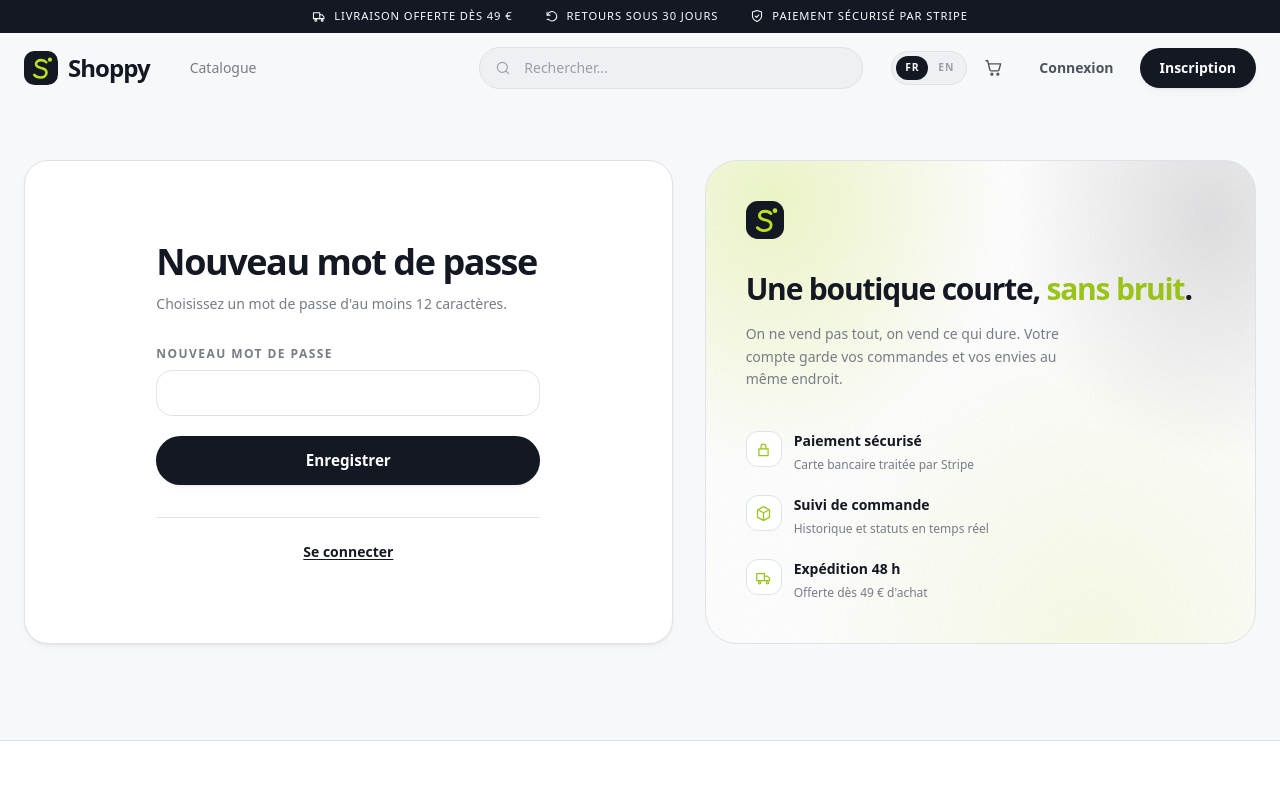
Scenario: account security pages › resets the password from the emailed token
This screenshot has width=1280, height=797.
In the password field labelled "Nouveau mot de passe": (348, 393) [156,370,540,416], type "brand-new-secret"
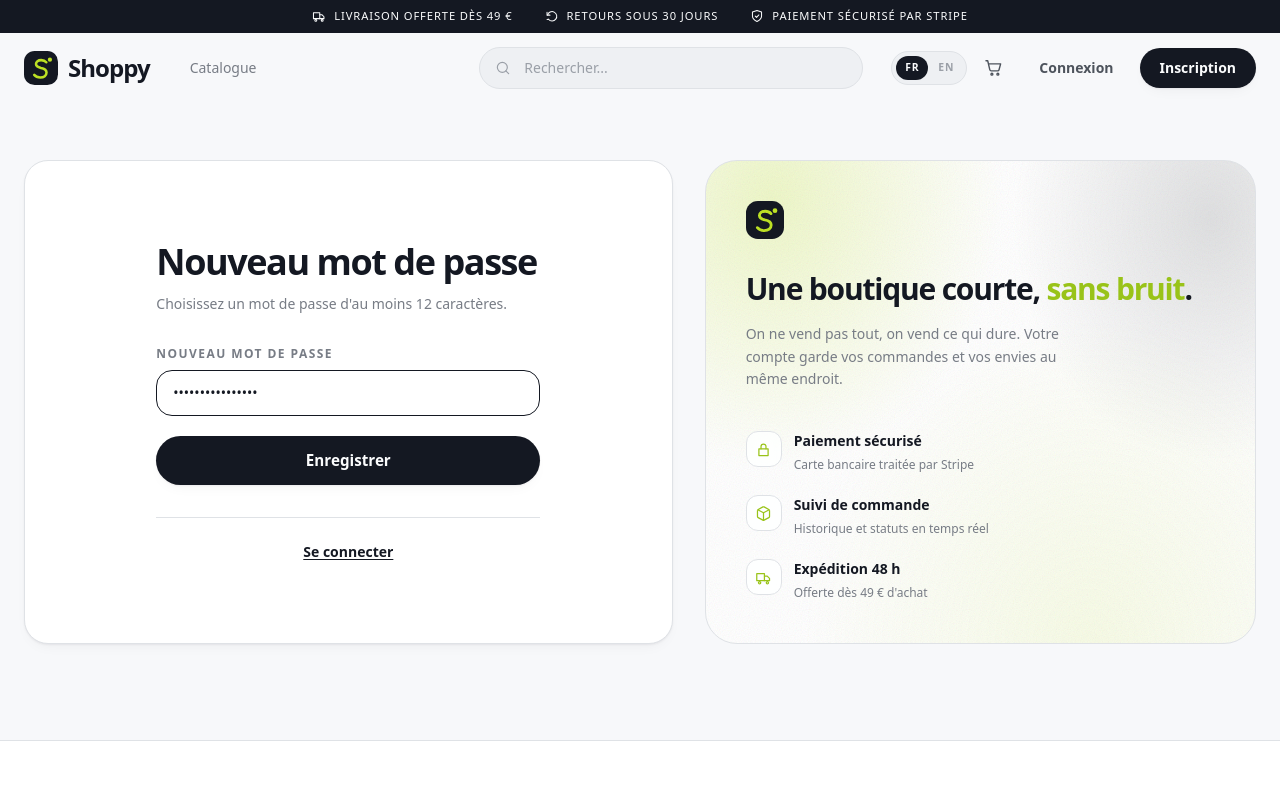
Click the button "Enregistrer": (348, 460) [156,436,540,485]
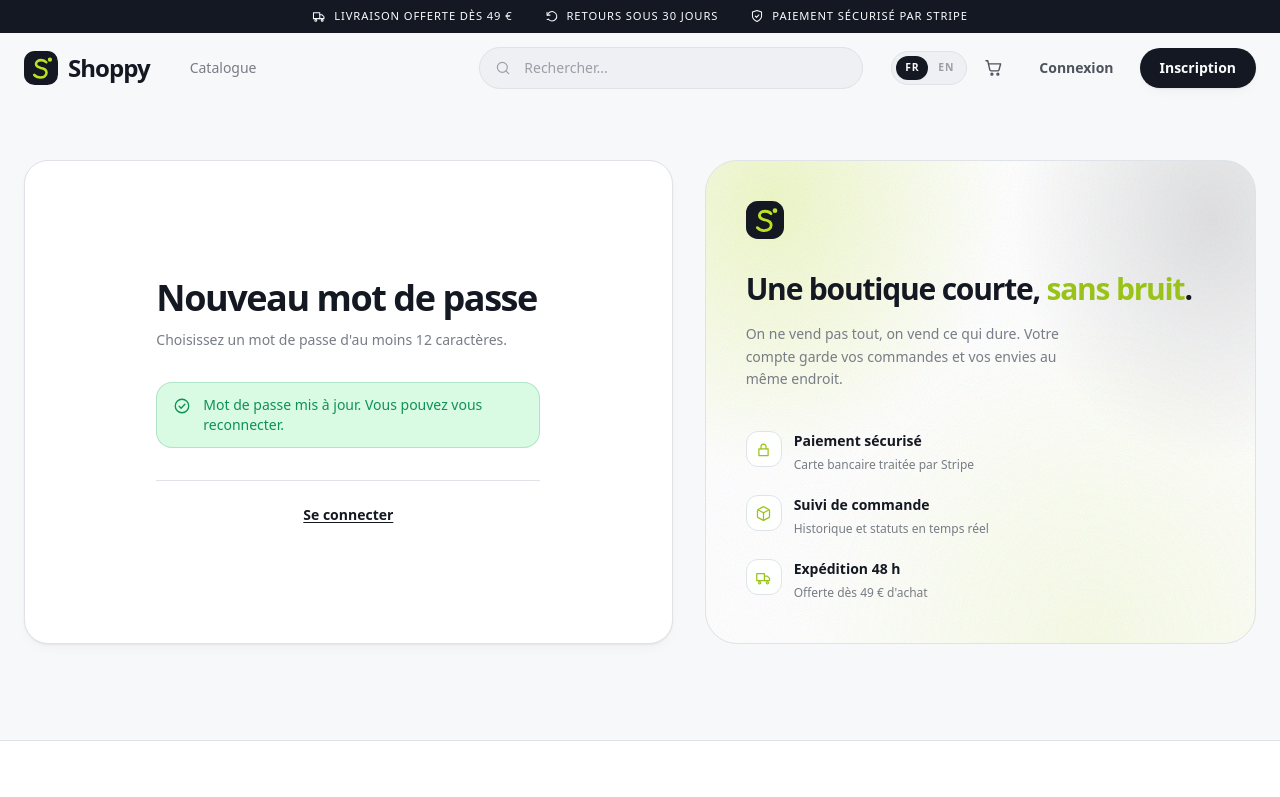
Now the message shows "Mot de passe mis à jour", box [203,395,482,434]
